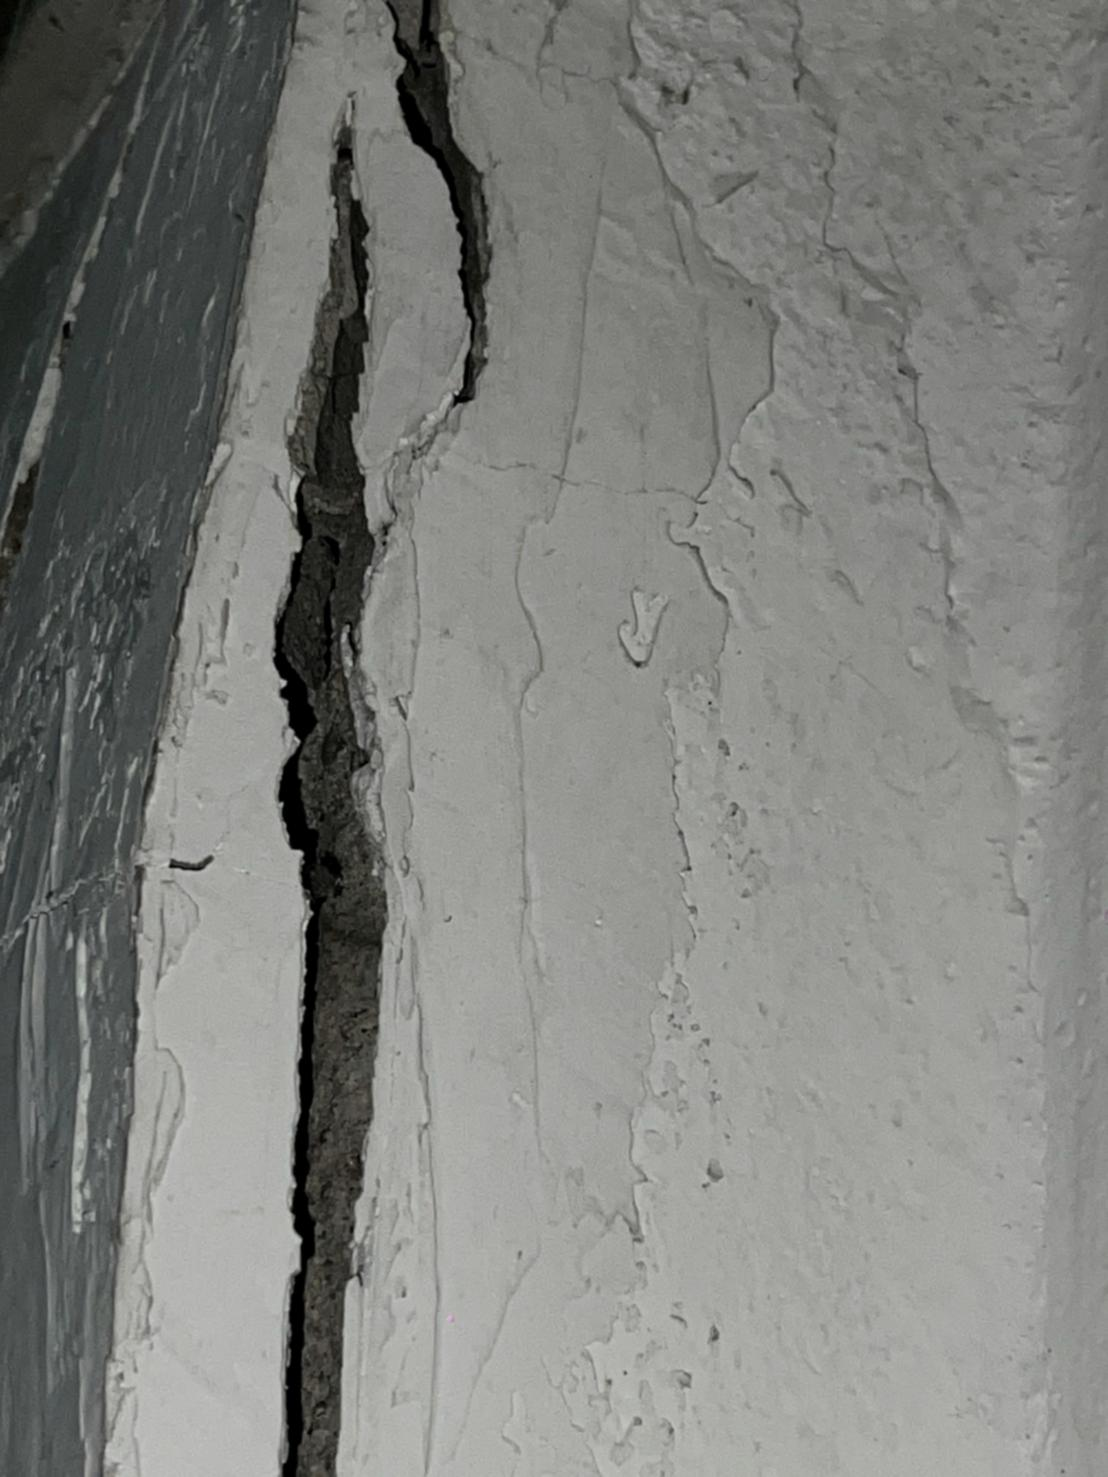High: (230, 3, 595, 1477)
